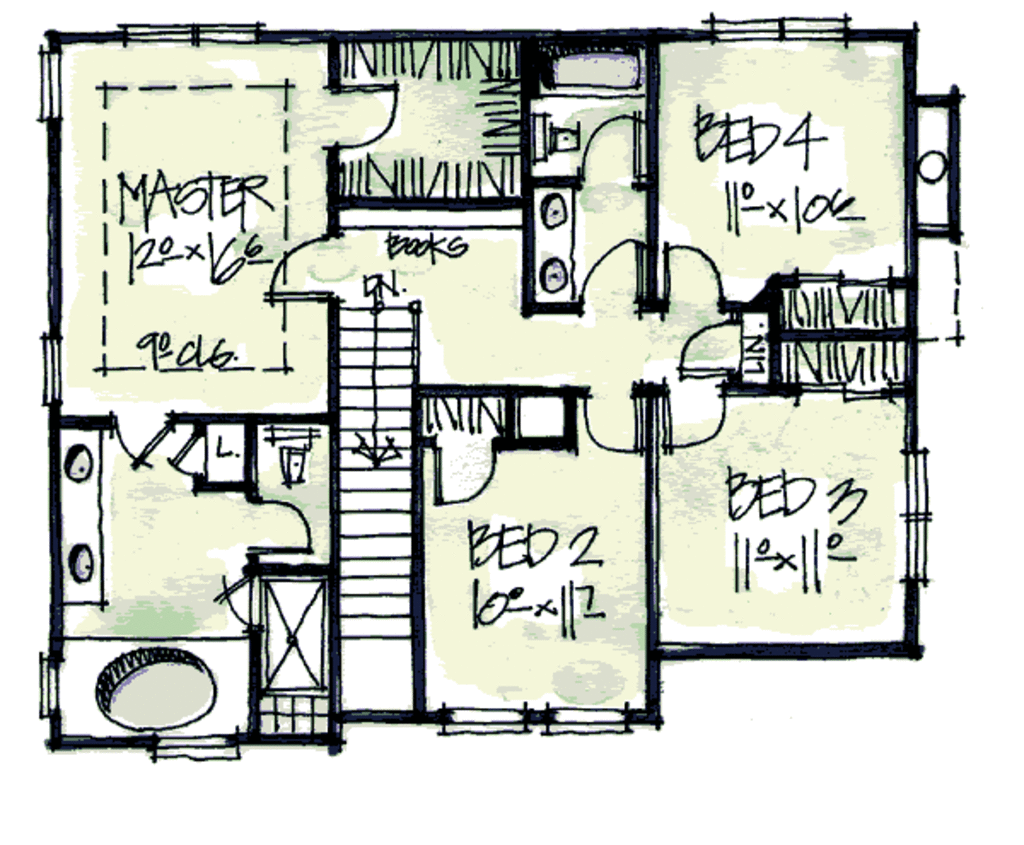door: (656, 239, 730, 330), (260, 227, 338, 308), (656, 380, 728, 458), (575, 235, 647, 312), (330, 80, 403, 152), (575, 388, 648, 460), (107, 403, 174, 477), (425, 445, 490, 521), (579, 110, 645, 180), (256, 499, 315, 554), (166, 420, 206, 481)
large_sink: (524, 108, 575, 169)
small_sink: (52, 422, 102, 599), (526, 176, 580, 303), (260, 412, 329, 490)
stairs: (325, 295, 433, 717)
tub: (535, 40, 649, 106)
window: (701, 11, 851, 47), (117, 16, 263, 51), (892, 444, 929, 581), (143, 730, 244, 761), (33, 43, 67, 124), (30, 653, 67, 721), (35, 330, 65, 399)
